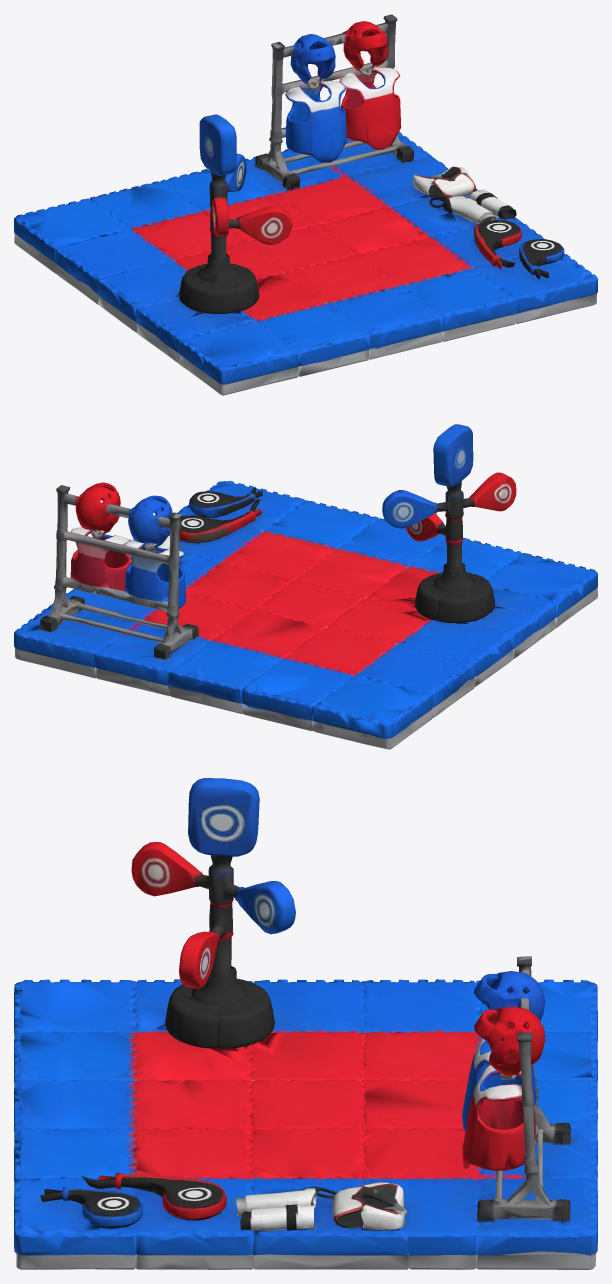
File: boxing.glb
3 views of the same model, one above another, from view 1: azimuth 30°, elevation 25°; view 2: azimuth 150°, elevation 25°; view 3: azimuth 270°, elevation 25° (orthographic). The views are drawn at different scales.
Parts seen in each view (by area): view 1: tripo_node_054e7bc8-3fbf-4755-9b3f-41e70e8dd9b1; view 2: tripo_node_054e7bc8-3fbf-4755-9b3f-41e70e8dd9b1; view 3: tripo_node_054e7bc8-3fbf-4755-9b3f-41e70e8dd9b1.
Part boxes in pixels (x1,y1,x2,y2): tripo_node_054e7bc8-3fbf-4755-9b3f-41e70e8dd9b1: [14, 14, 597, 395]; tripo_node_054e7bc8-3fbf-4755-9b3f-41e70e8dd9b1: [14, 424, 597, 749]; tripo_node_054e7bc8-3fbf-4755-9b3f-41e70e8dd9b1: [14, 778, 597, 1269].
Size of the model in its own units: 1 by 0.5169 by 0.9642.
1 material, 1 textured.
